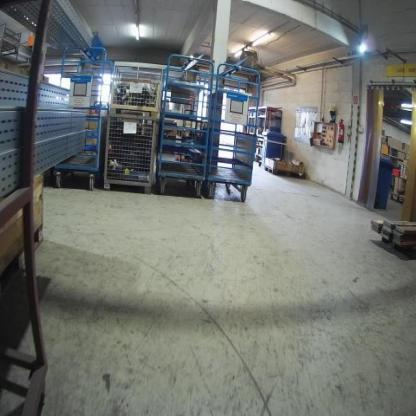pallet: (265, 165, 304, 180)
stillage: (101, 110, 157, 195), (106, 58, 165, 120)
